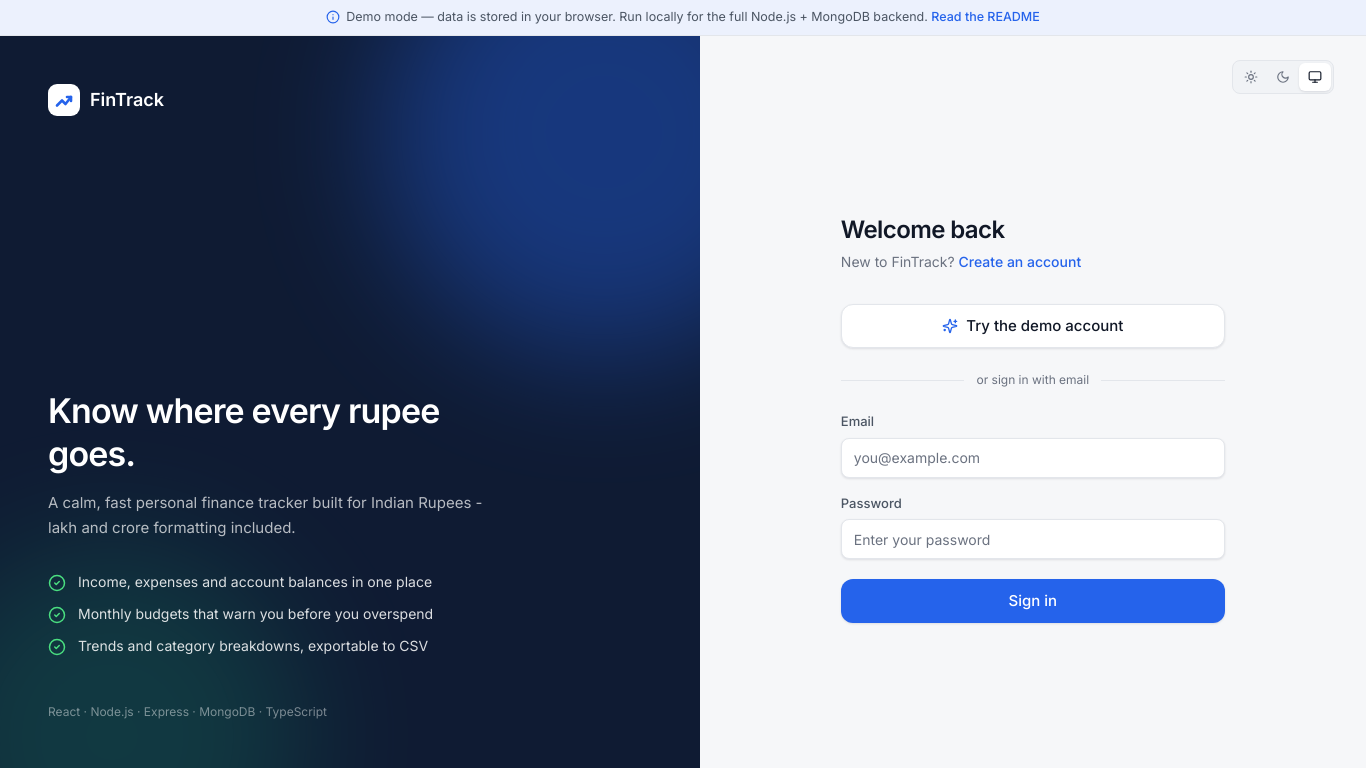
Login flow (demo mode) › validates the form and reports wrong credentials
Click the button "Sign in" at (1033,601), box [841,579,1225,623]
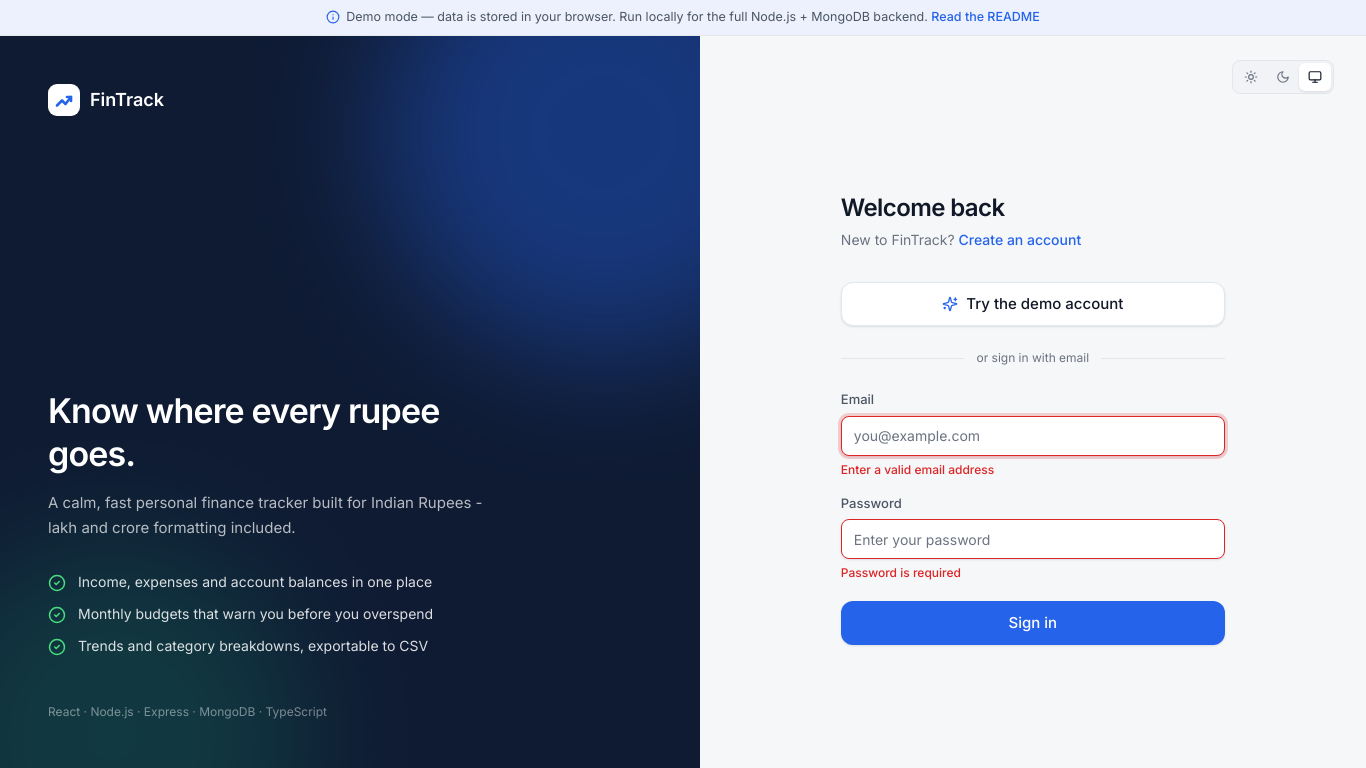
Result: the text "Enter a valid email address" is shown at [841,462,994,477]
Type "nobody@example.com" into the field labelled "Email" at (1033,436), box [841,416,1225,456]
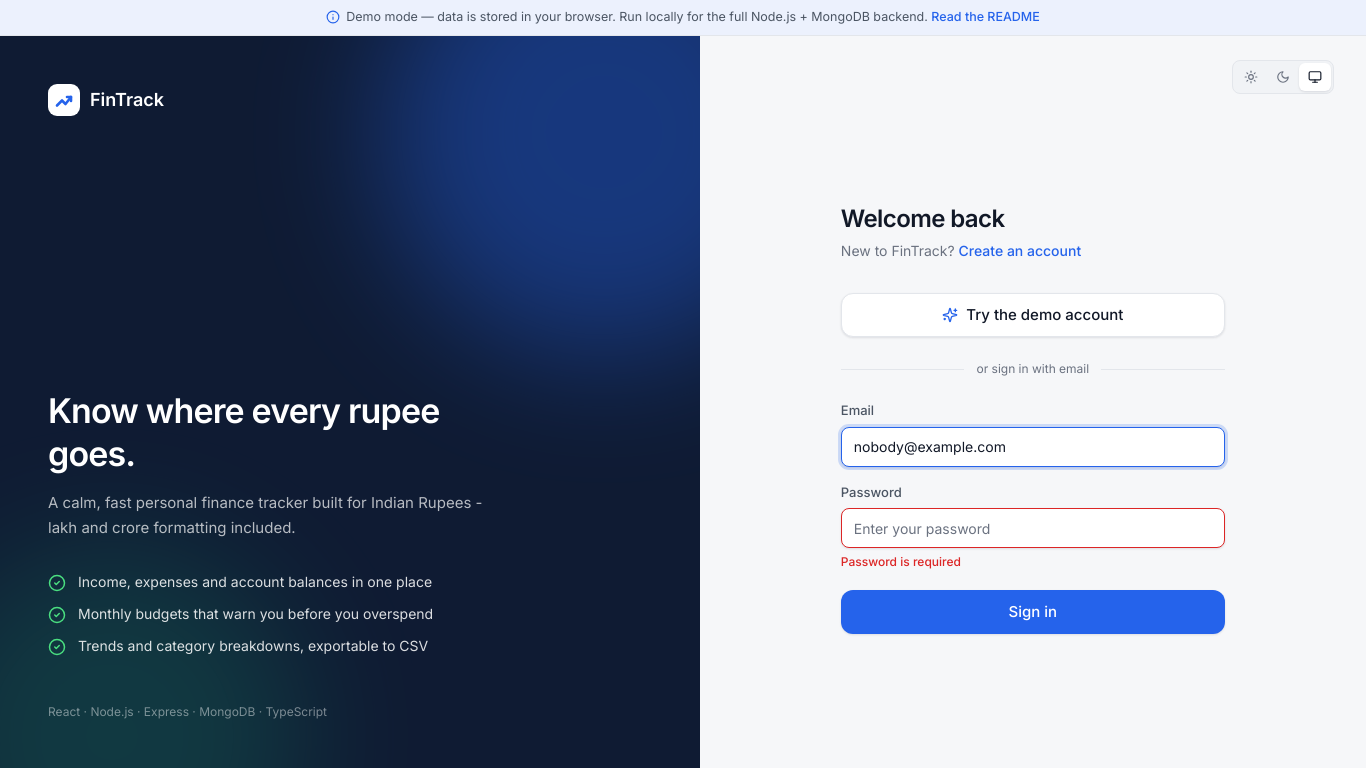
Type "whatever1" into the password field labelled "Password" at (1033,528), box [841,508,1225,548]
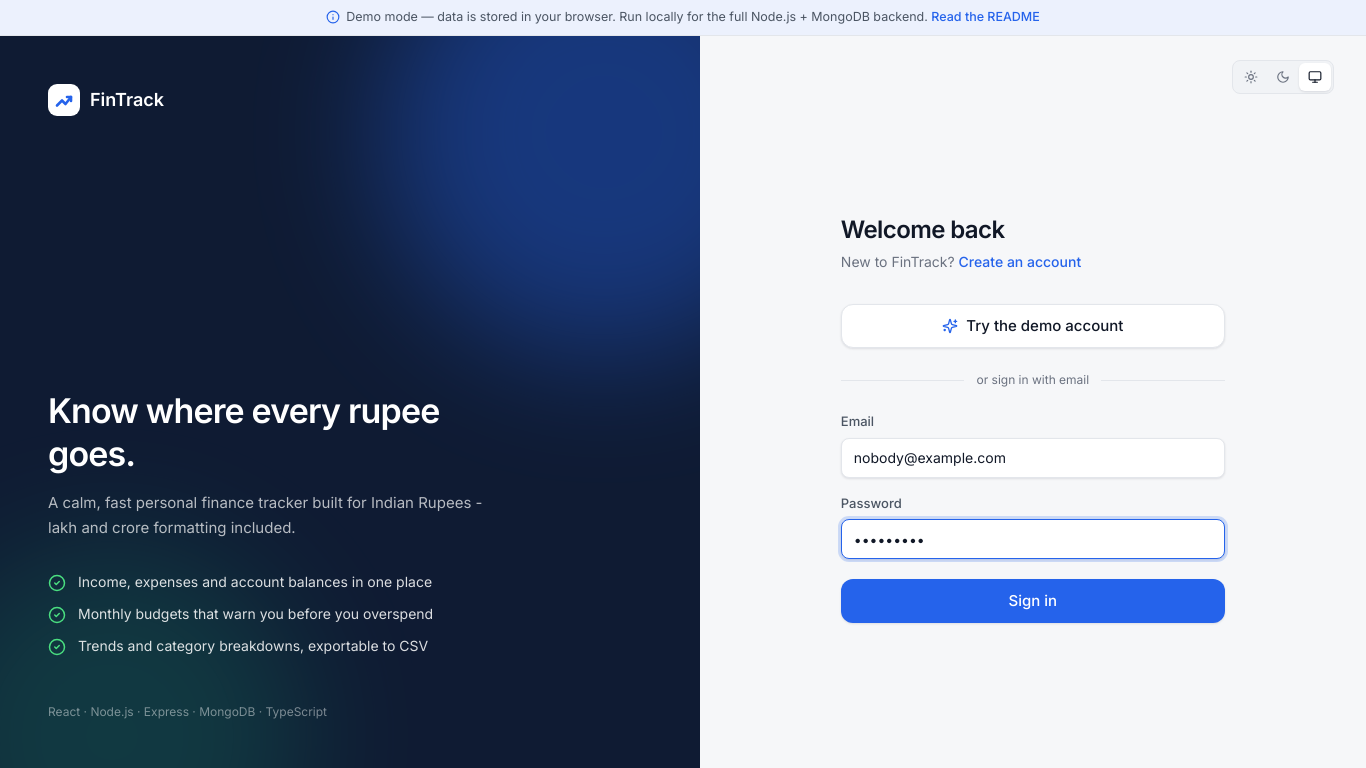
Click the button "Sign in" at (1033,601), box [841,579,1225,623]
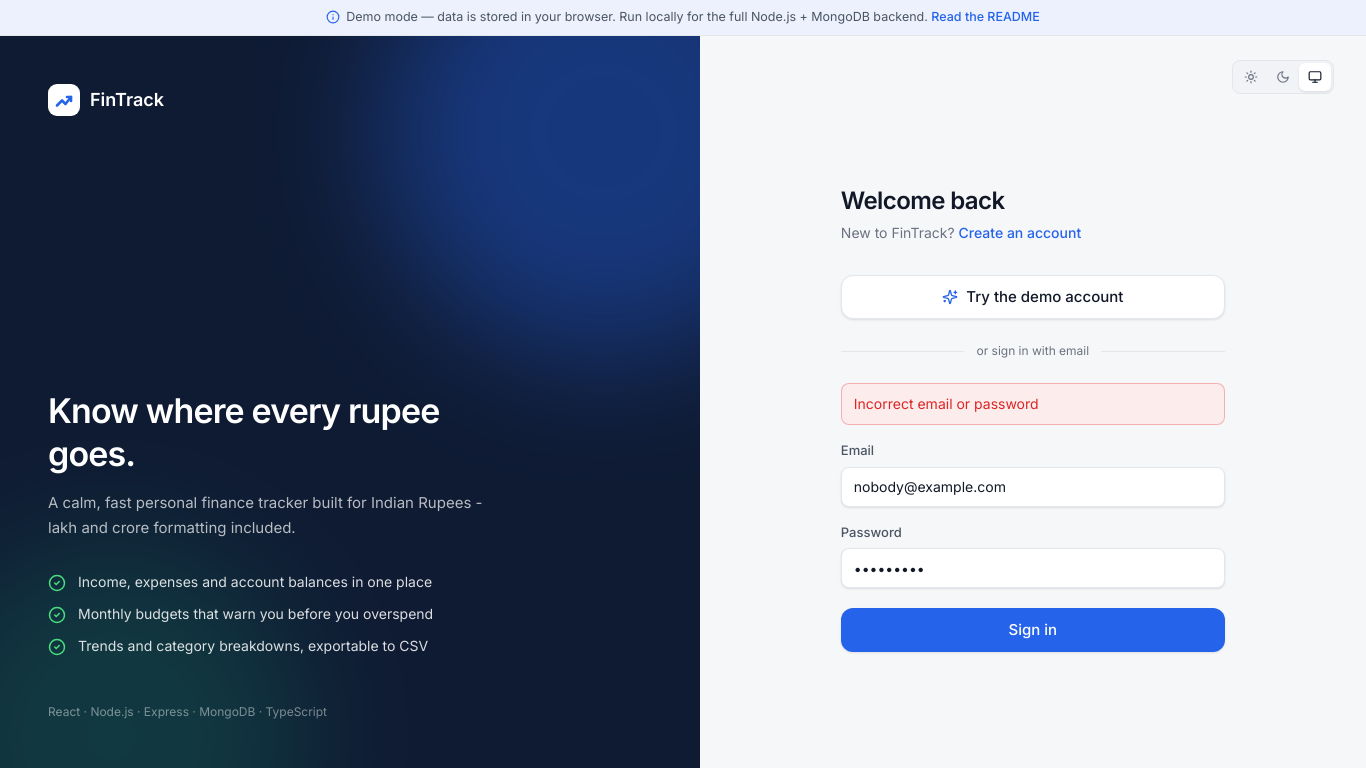
Result: the text "Incorrect email or password" is shown at [841,383,1225,425]
